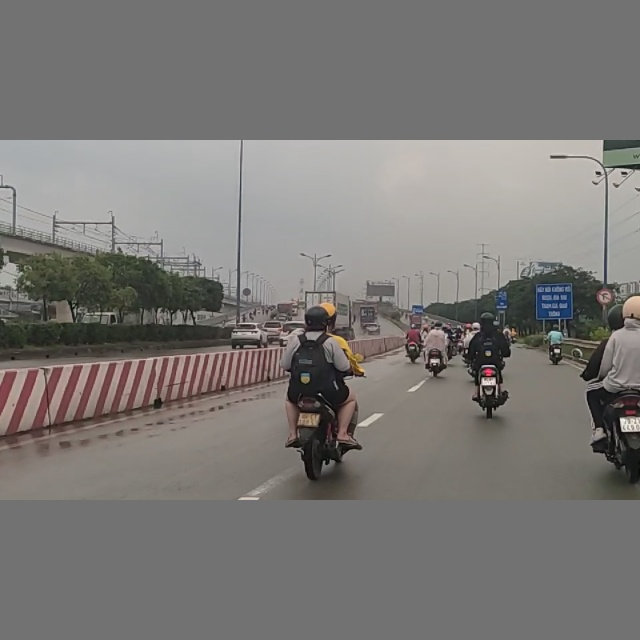P.123b: (597, 289, 613, 306)
